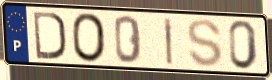0: (227, 19, 259, 71), (113, 14, 141, 66)
D: (32, 9, 68, 61)
I: (163, 16, 174, 67)
O: (70, 11, 108, 64)
S: (185, 18, 224, 69)
